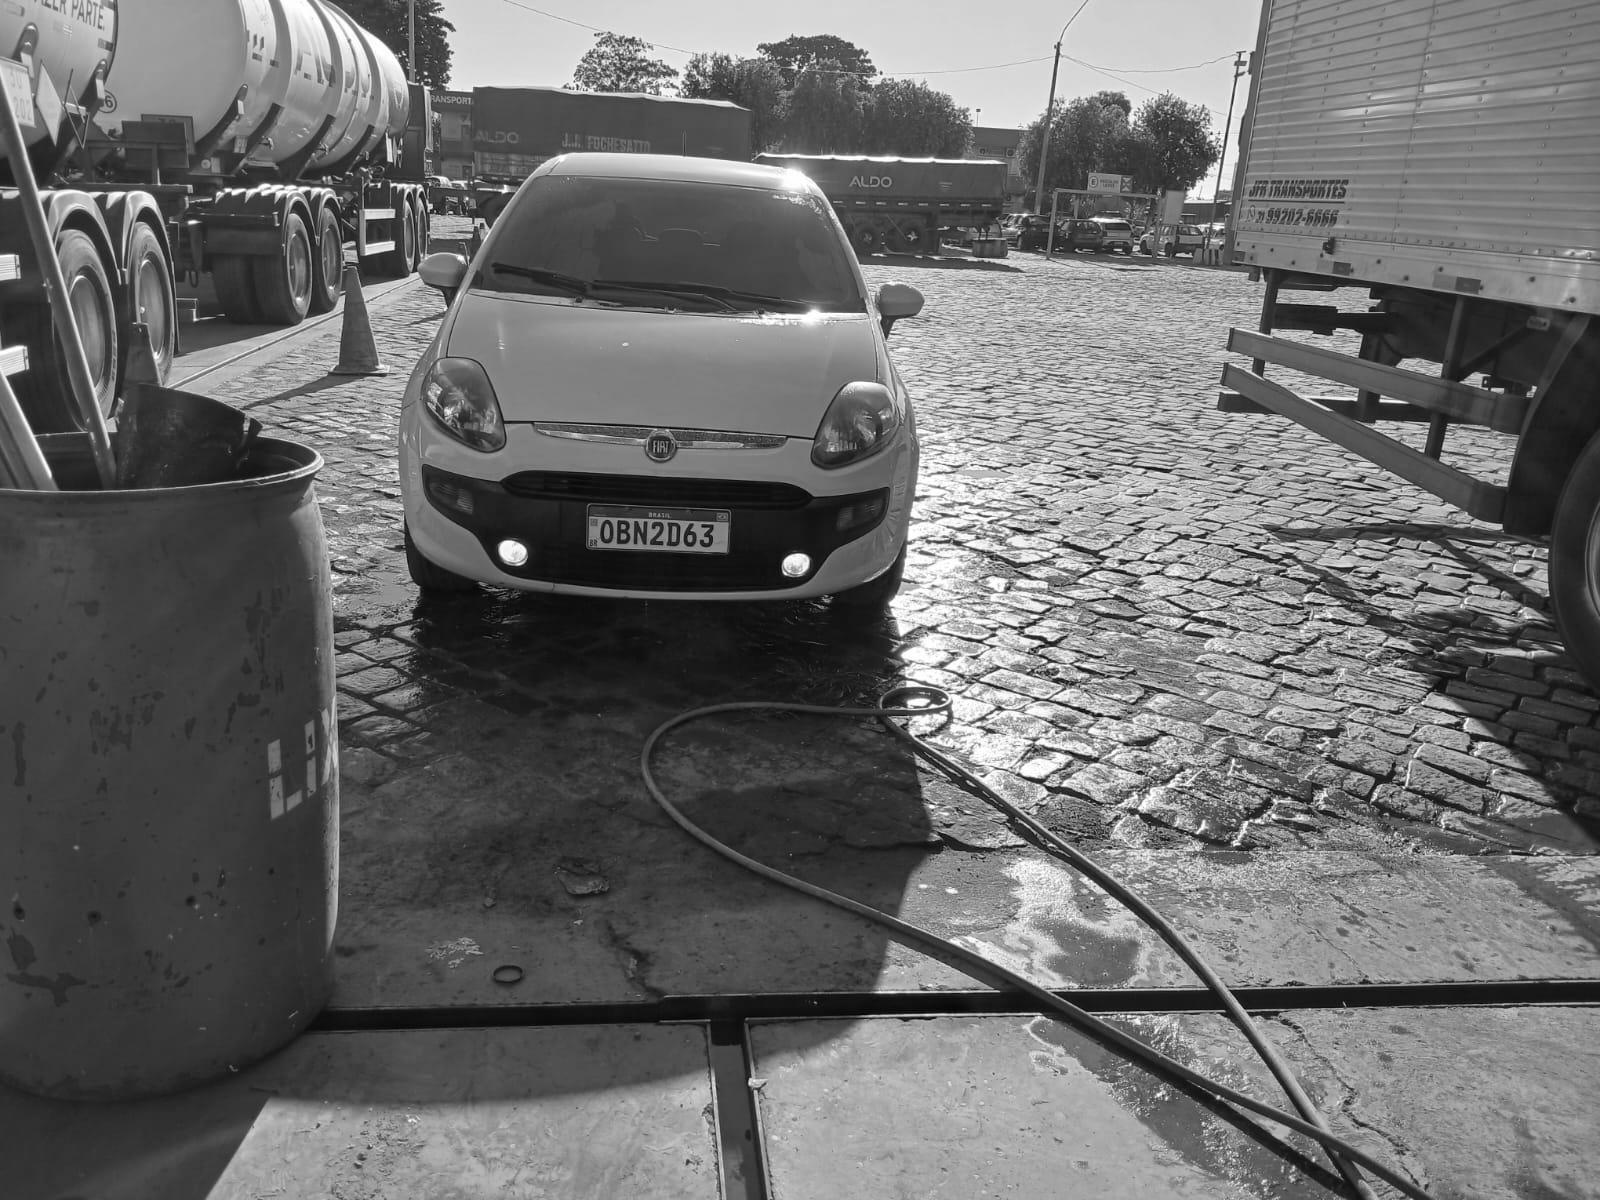placa_mercosul: (586, 504, 728, 554)
